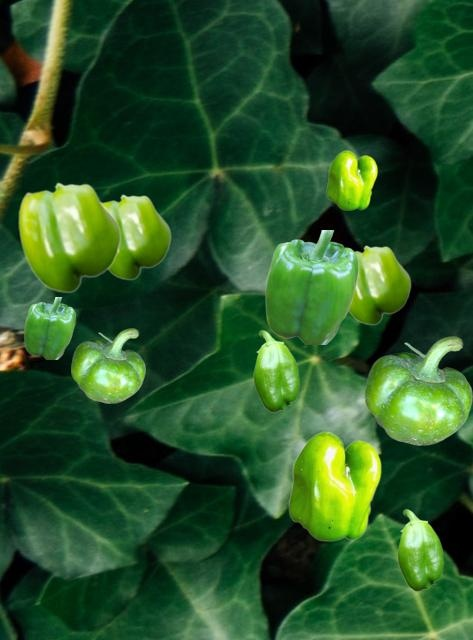bell_pepper: (365, 336, 471, 444), (18, 182, 120, 292), (265, 230, 357, 343), (288, 431, 380, 540), (102, 194, 170, 279), (71, 328, 144, 402), (349, 245, 410, 324), (397, 509, 442, 590), (253, 330, 298, 411), (24, 297, 74, 358), (326, 150, 376, 209)
